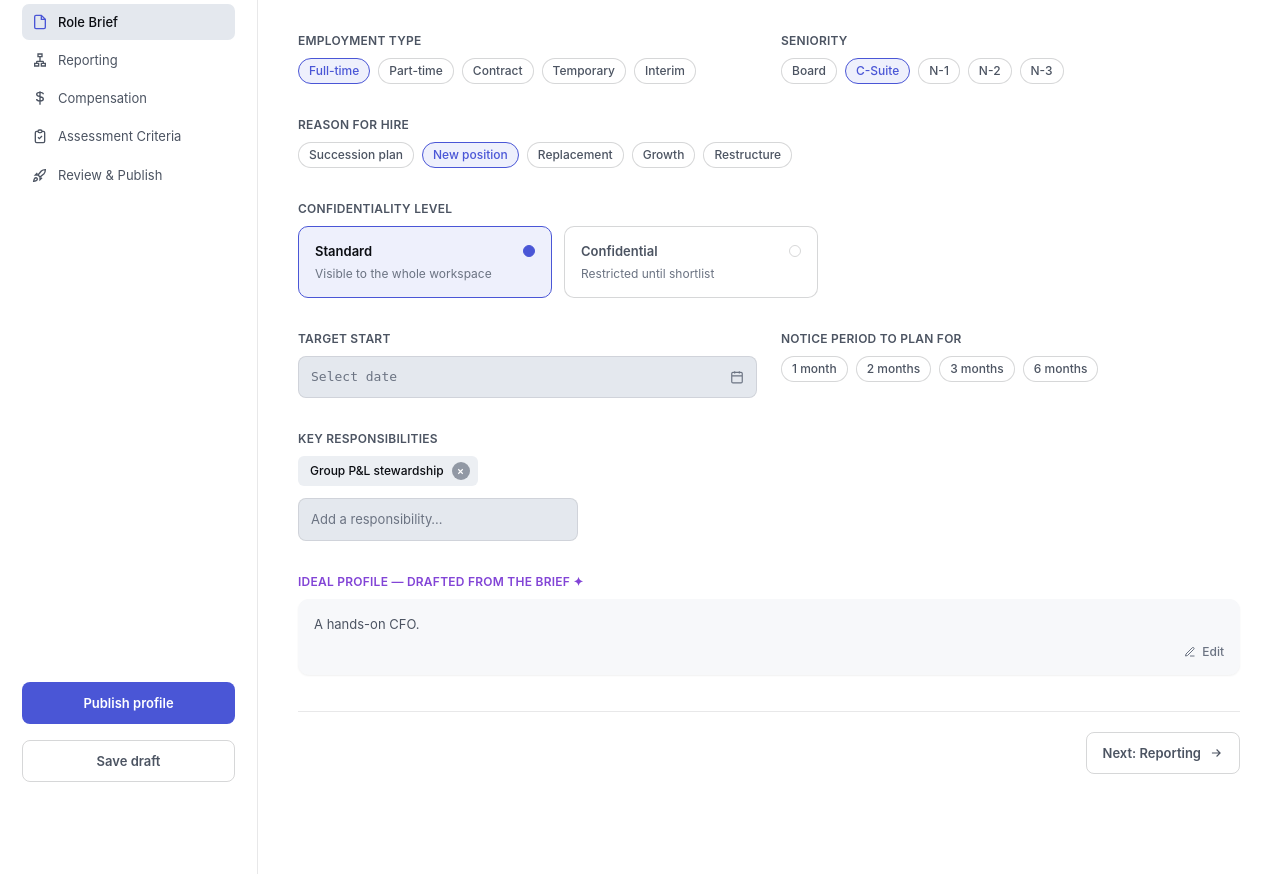
PositionPage › the rail and the step in the URL › walks the steps from the foot of each one, forwards and back
The width and height of the screenshot is (1280, 874).
(page scrolled)
Check: the link "Back to" is not shown
Click the link "Next: Reporting" at (1163, 753), box [1086,732,1240,774]
(page scrolled)
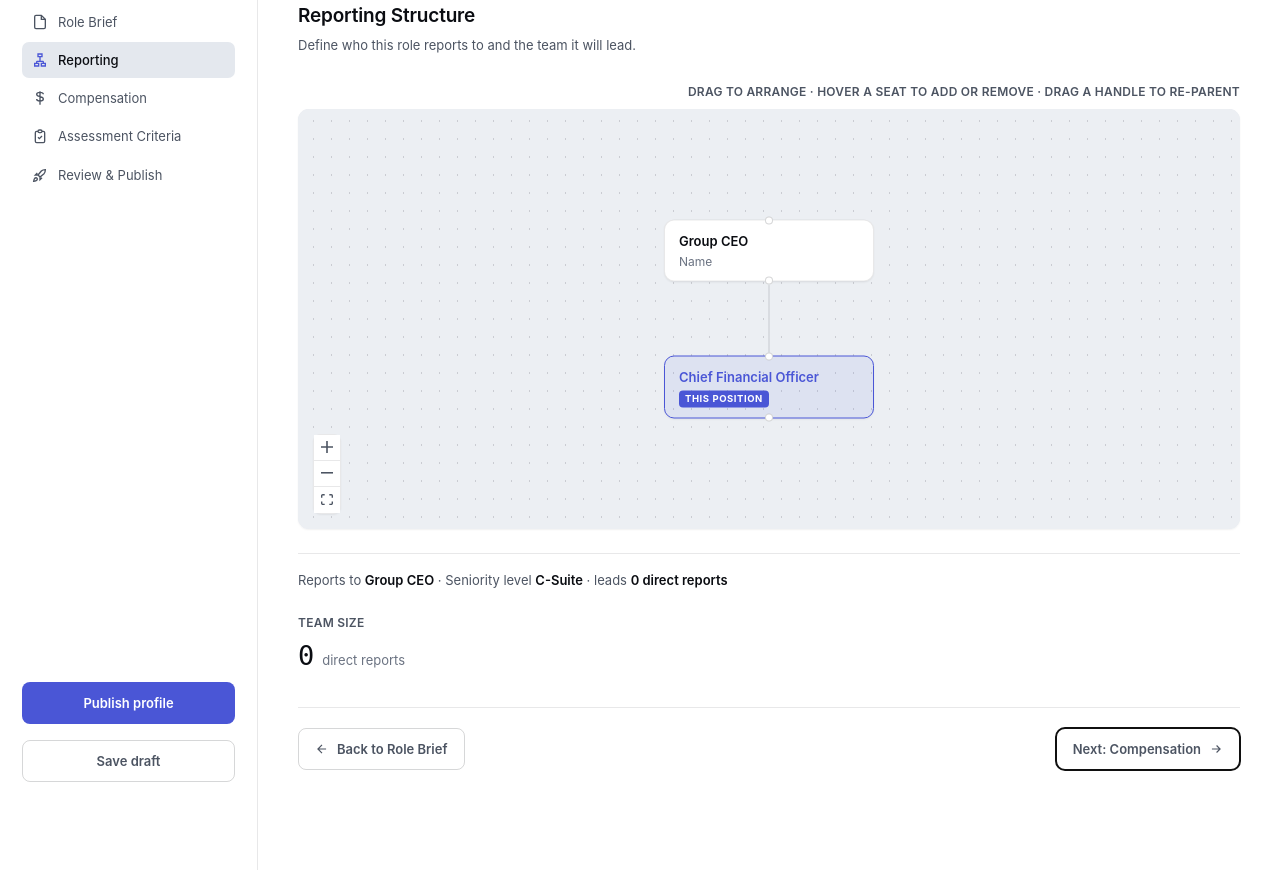
Check: the heading "Reporting Structure" is shown, box [298,4,475,27]
Click the link "Back to Role Brief" at (381, 749), box [298,728,464,770]
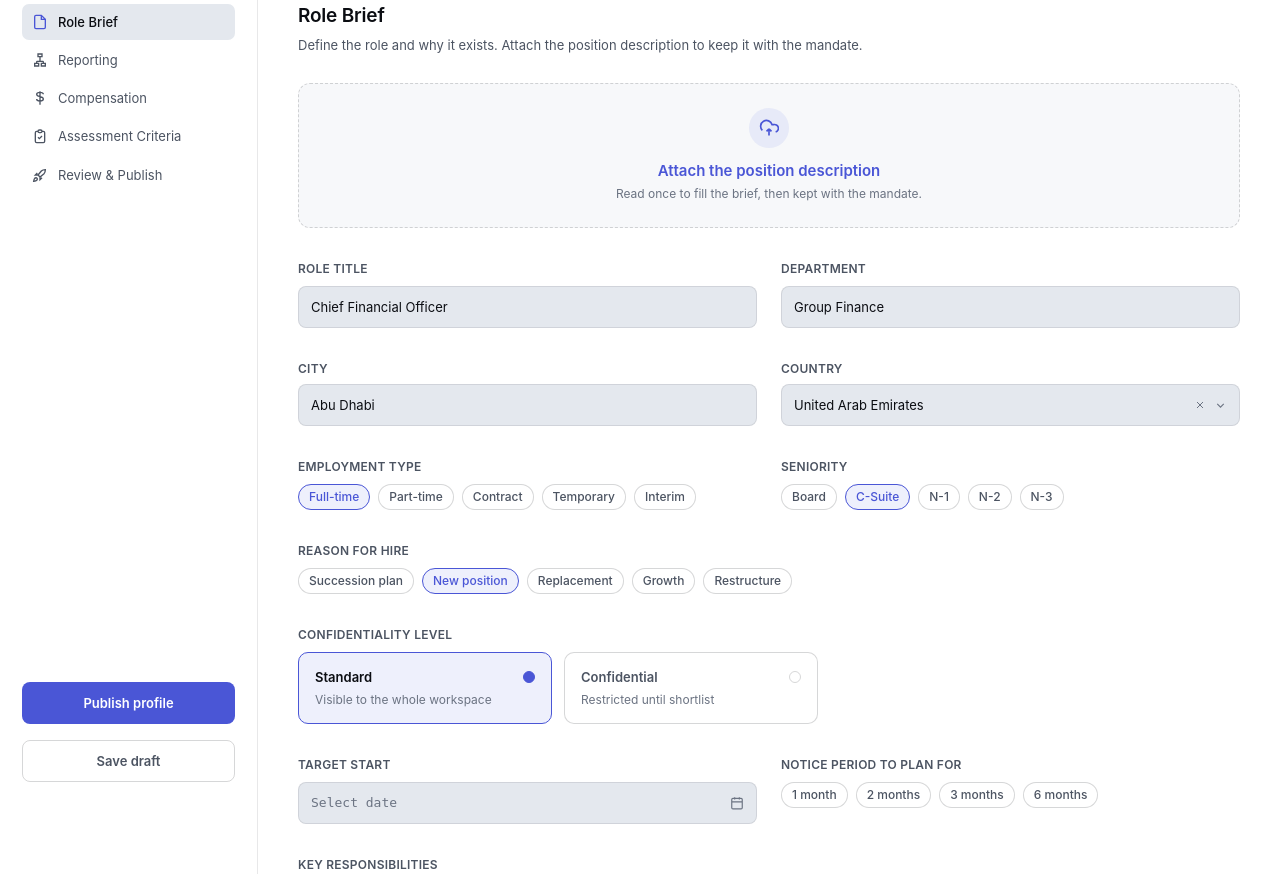
Check: the heading "Role Brief" is shown, box [298,4,385,27]
